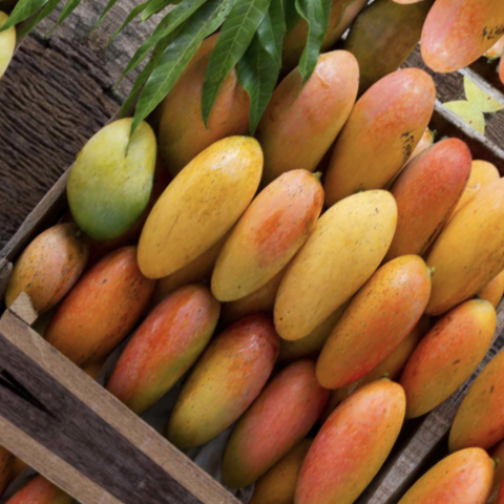mango: (233, 157, 431, 376), (108, 101, 294, 307), (77, 251, 254, 451), (295, 232, 466, 419), (286, 46, 457, 231), (261, 345, 443, 504), (190, 138, 351, 315), (375, 153, 504, 362), (26, 94, 185, 261), (202, 328, 355, 497), (366, 279, 504, 446)
